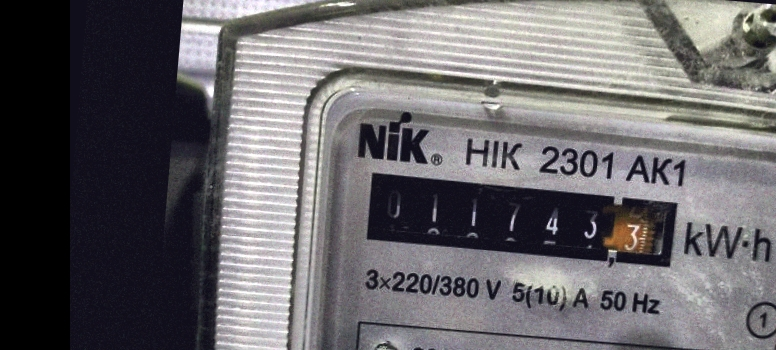0: (383, 185, 405, 222)
1: (466, 192, 483, 228), (429, 189, 442, 223)
3: (579, 205, 601, 241), (622, 221, 643, 255)
4: (542, 202, 562, 237)
7: (503, 198, 524, 233)
screen: (351, 159, 692, 281)
